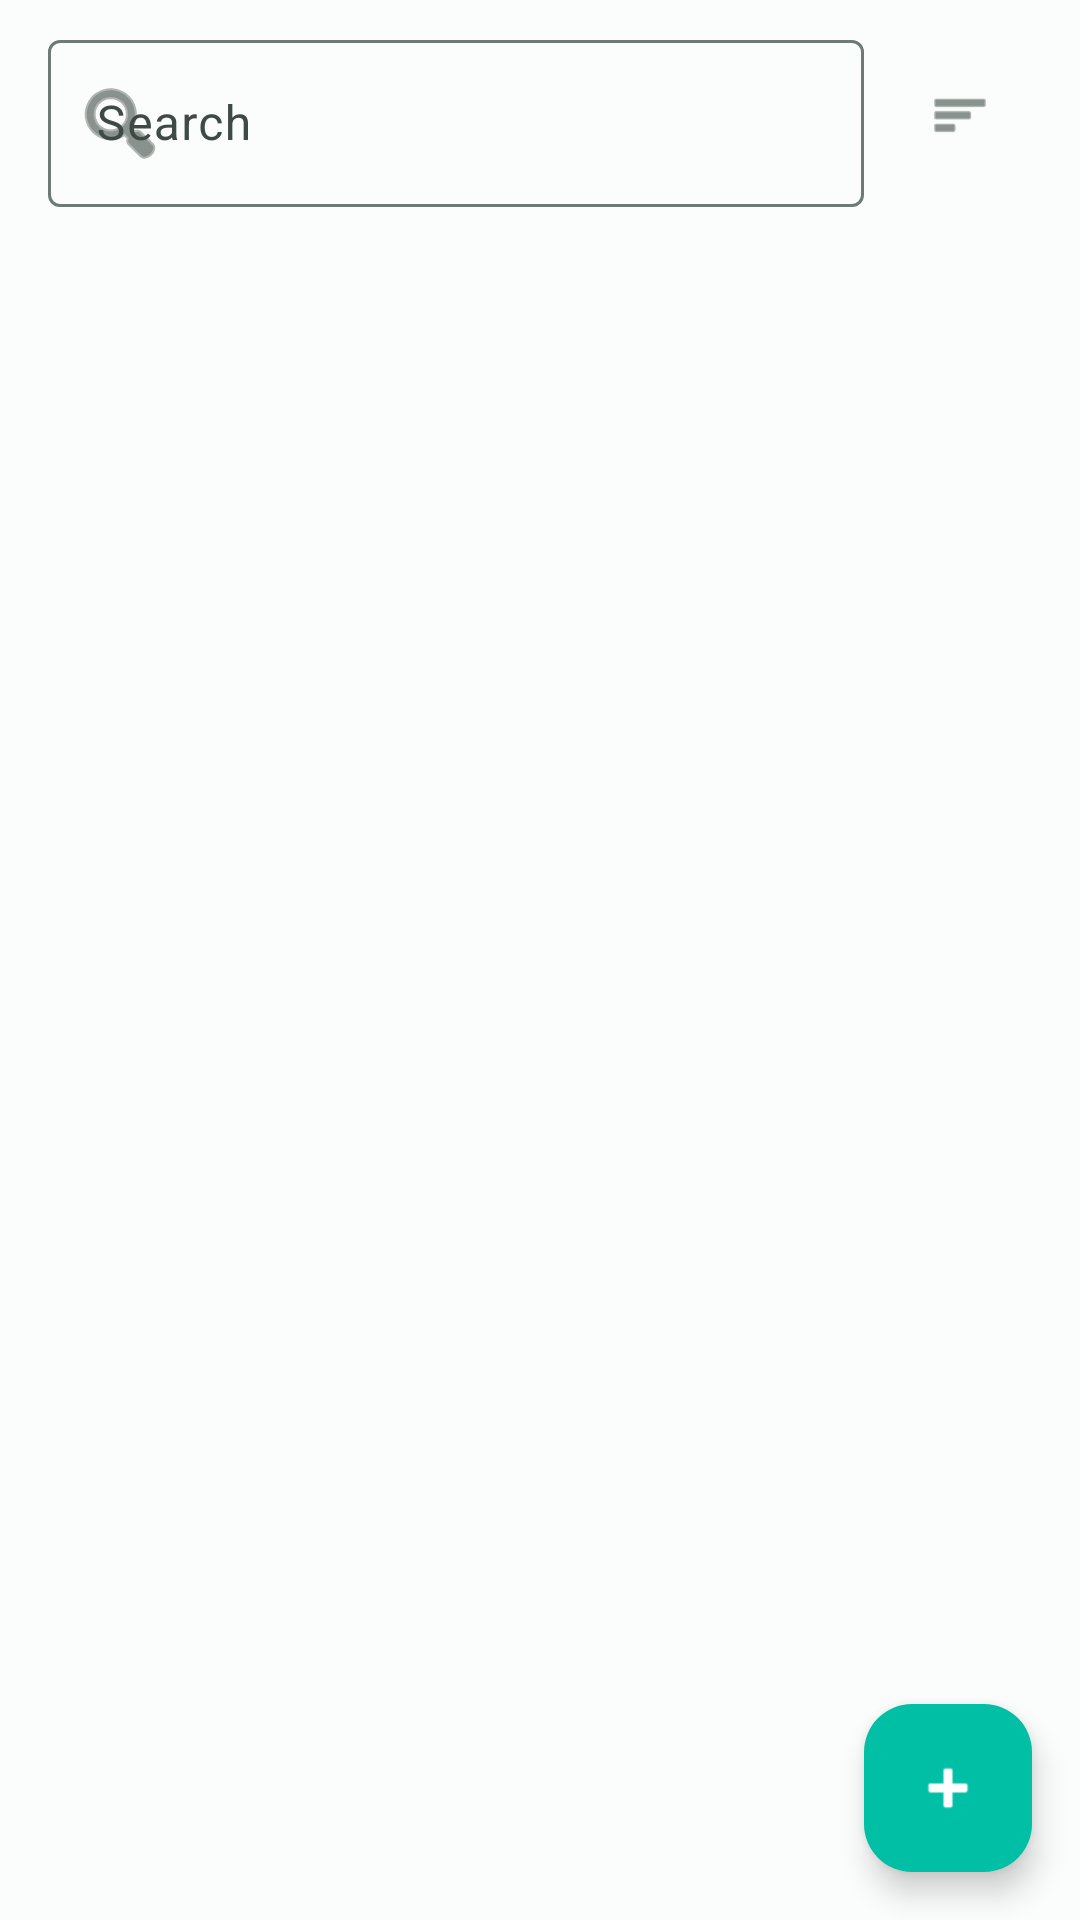

Named icons in this screenshot (1080 x 1920) and their centers, (x=x, y=y):
Add Rabbit: (x=948, y=1788)
Filter: (x=960, y=115)
